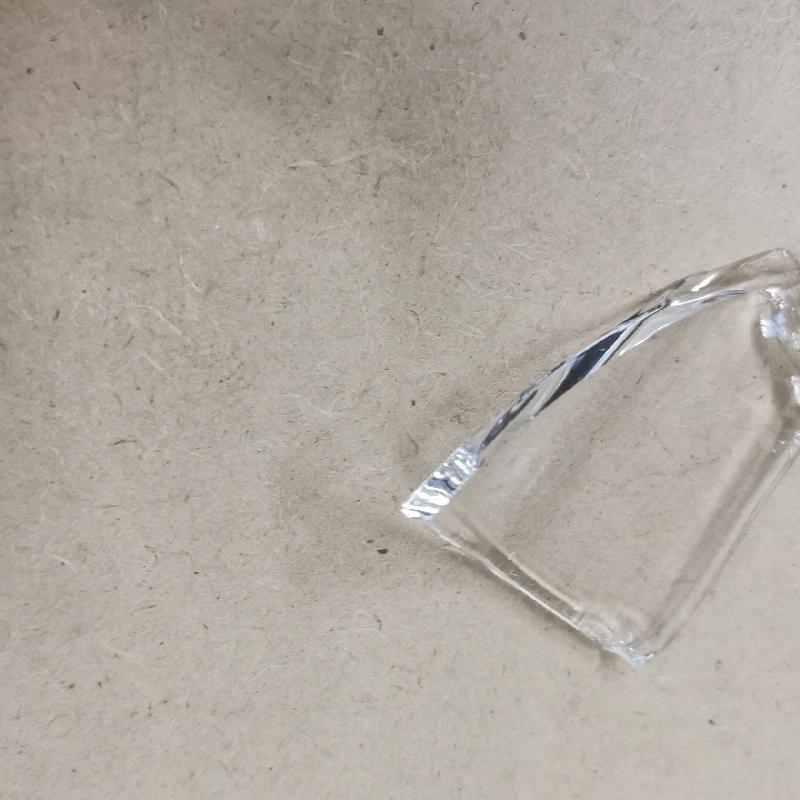glass: (397, 248, 800, 668)
